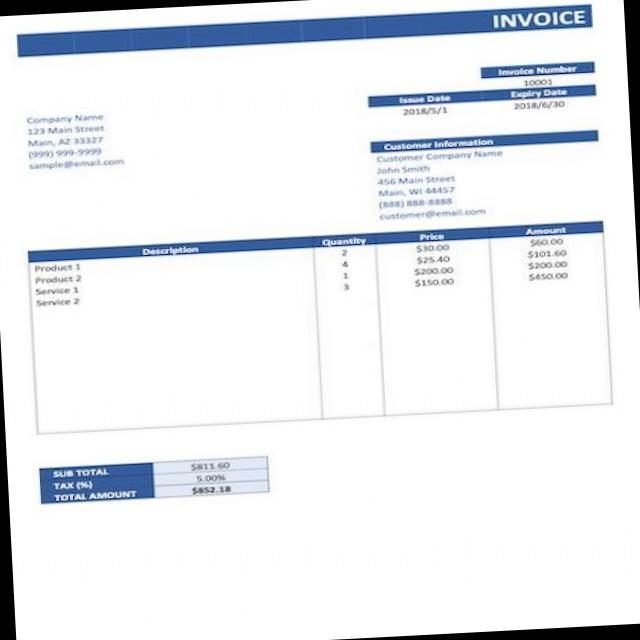customer_address: (372, 175, 466, 198)
customer_name: (375, 148, 504, 175)
due_date: (509, 99, 572, 111)
invoice_date: (395, 103, 454, 120)
invoice_number: (521, 76, 556, 86)
invoice_subtotal: (187, 456, 239, 472)
invoice_total: (188, 484, 236, 497)
item_description: (30, 258, 99, 317)
item_quantity: (331, 247, 358, 295)
item_total_price: (522, 237, 575, 286)
item_unit_price: (411, 242, 457, 290)
supplier_address: (21, 122, 112, 150)
supplier_name: (22, 108, 108, 125)
tax_rate: (192, 473, 230, 484)
